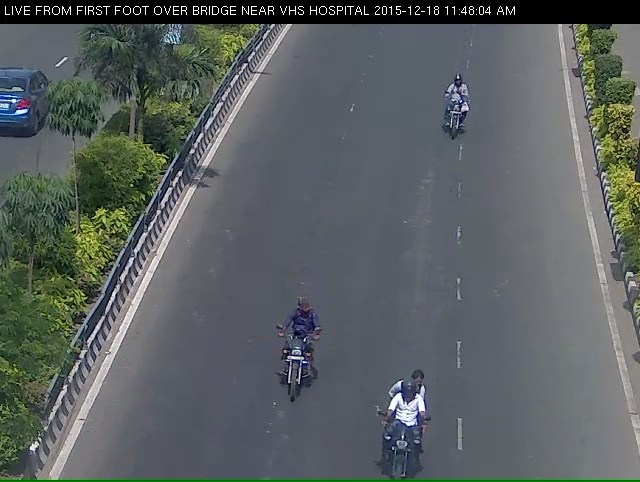Person: (268, 317, 324, 423), (370, 399, 430, 477), (436, 78, 475, 148)
